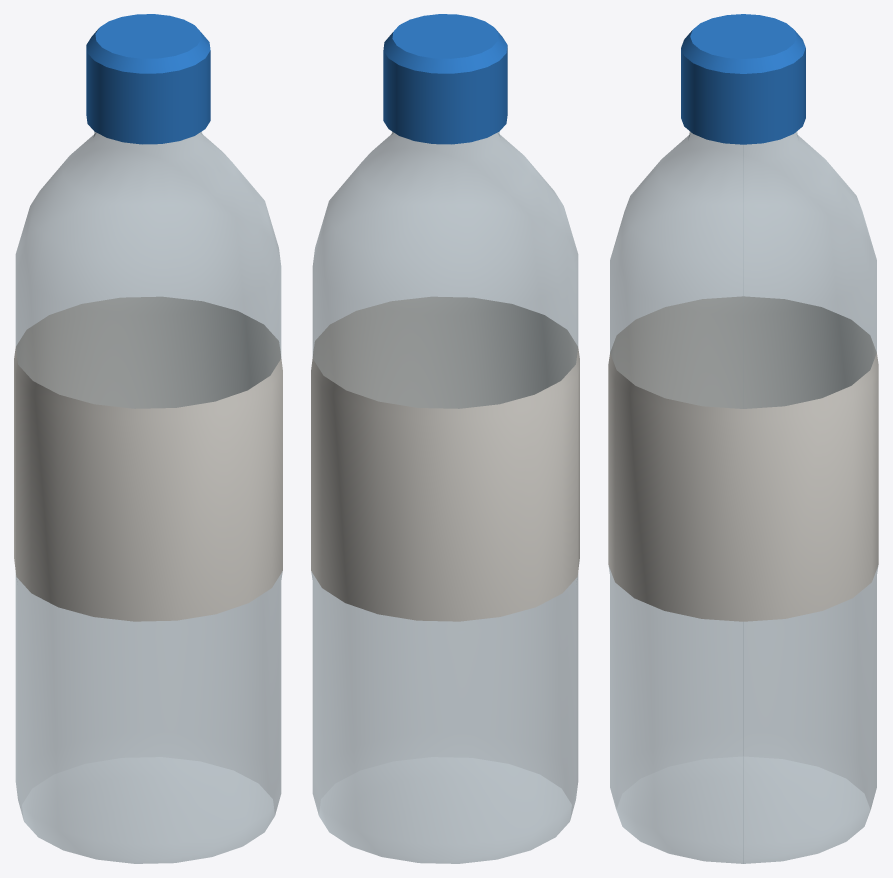
The model's file is bottle.glb.
3 views of the same model, side by side, from view 1: azimuth 30°, elevation 25°; view 2: azimuth 150°, elevation 25°; view 3: azimuth 270°, elevation 25° (orthographic).
Visible parts, largest first — view 1: bottle; view 2: bottle; view 3: bottle.
Part boxes in pixels (x1,y1,x2,y2): bottle: (14,14,282,863); bottle: (311,14,579,863); bottle: (608,14,878,863).
Size of the model in its own units: 0.0658 by 0.21 by 0.0658.
